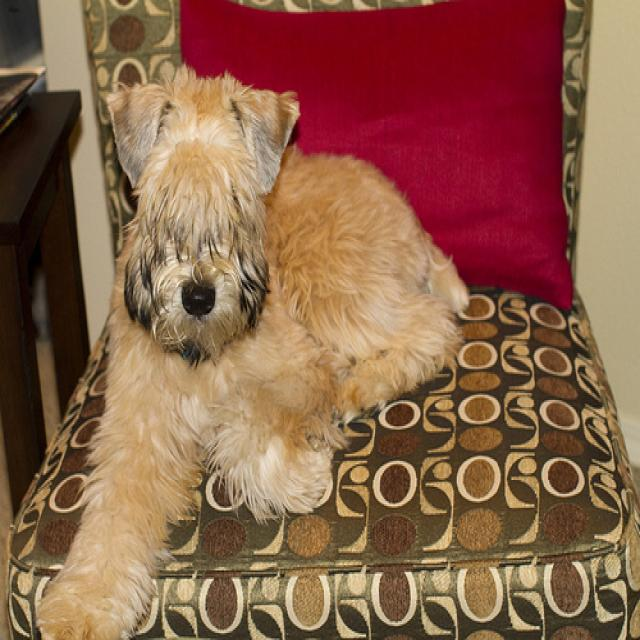dog-wheaten_terrier: (26, 54, 483, 637)
